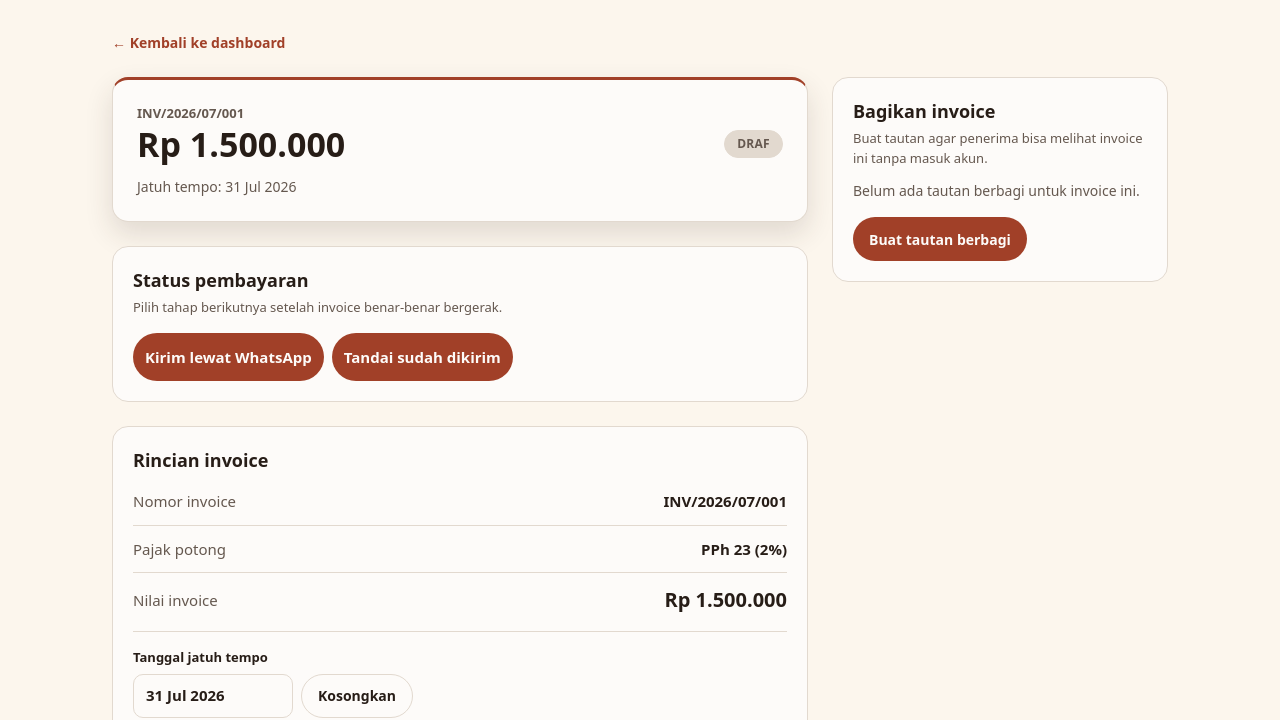
Test: InvoiceDetailClient › Aksi utama WhatsApp (header) › keeps the primary WhatsApp button enabled for an unusable contact, revealing the repair block naming the deal only once activated (F15)
expect the text "Nomor WhatsApp belum valid — perbaiki di deal ini." is not shown: met
Click the button "Kirim lewat WhatsApp": {"x": 228, "y": 357} [133, 333, 324, 381]
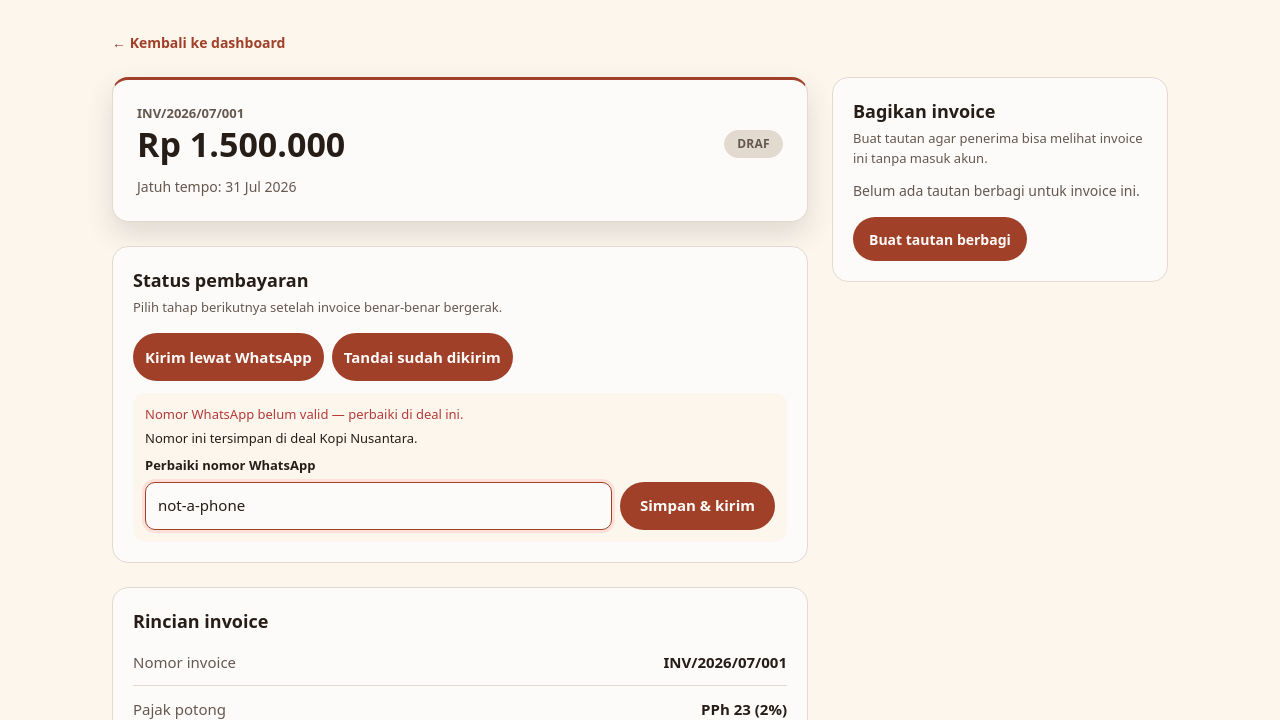
expect the text "Nomor WhatsApp belum valid — perbaiki di deal ini." is shown: met, box [145, 405, 464, 423]
expect the text "Nomor ini tersimpan di deal Kopi Nusantara." is shown: met, box [145, 428, 418, 446]
expect the field labelled "Perbaiki nomor WhatsApp" holds "not-a-phone": met, box [145, 482, 612, 530]
